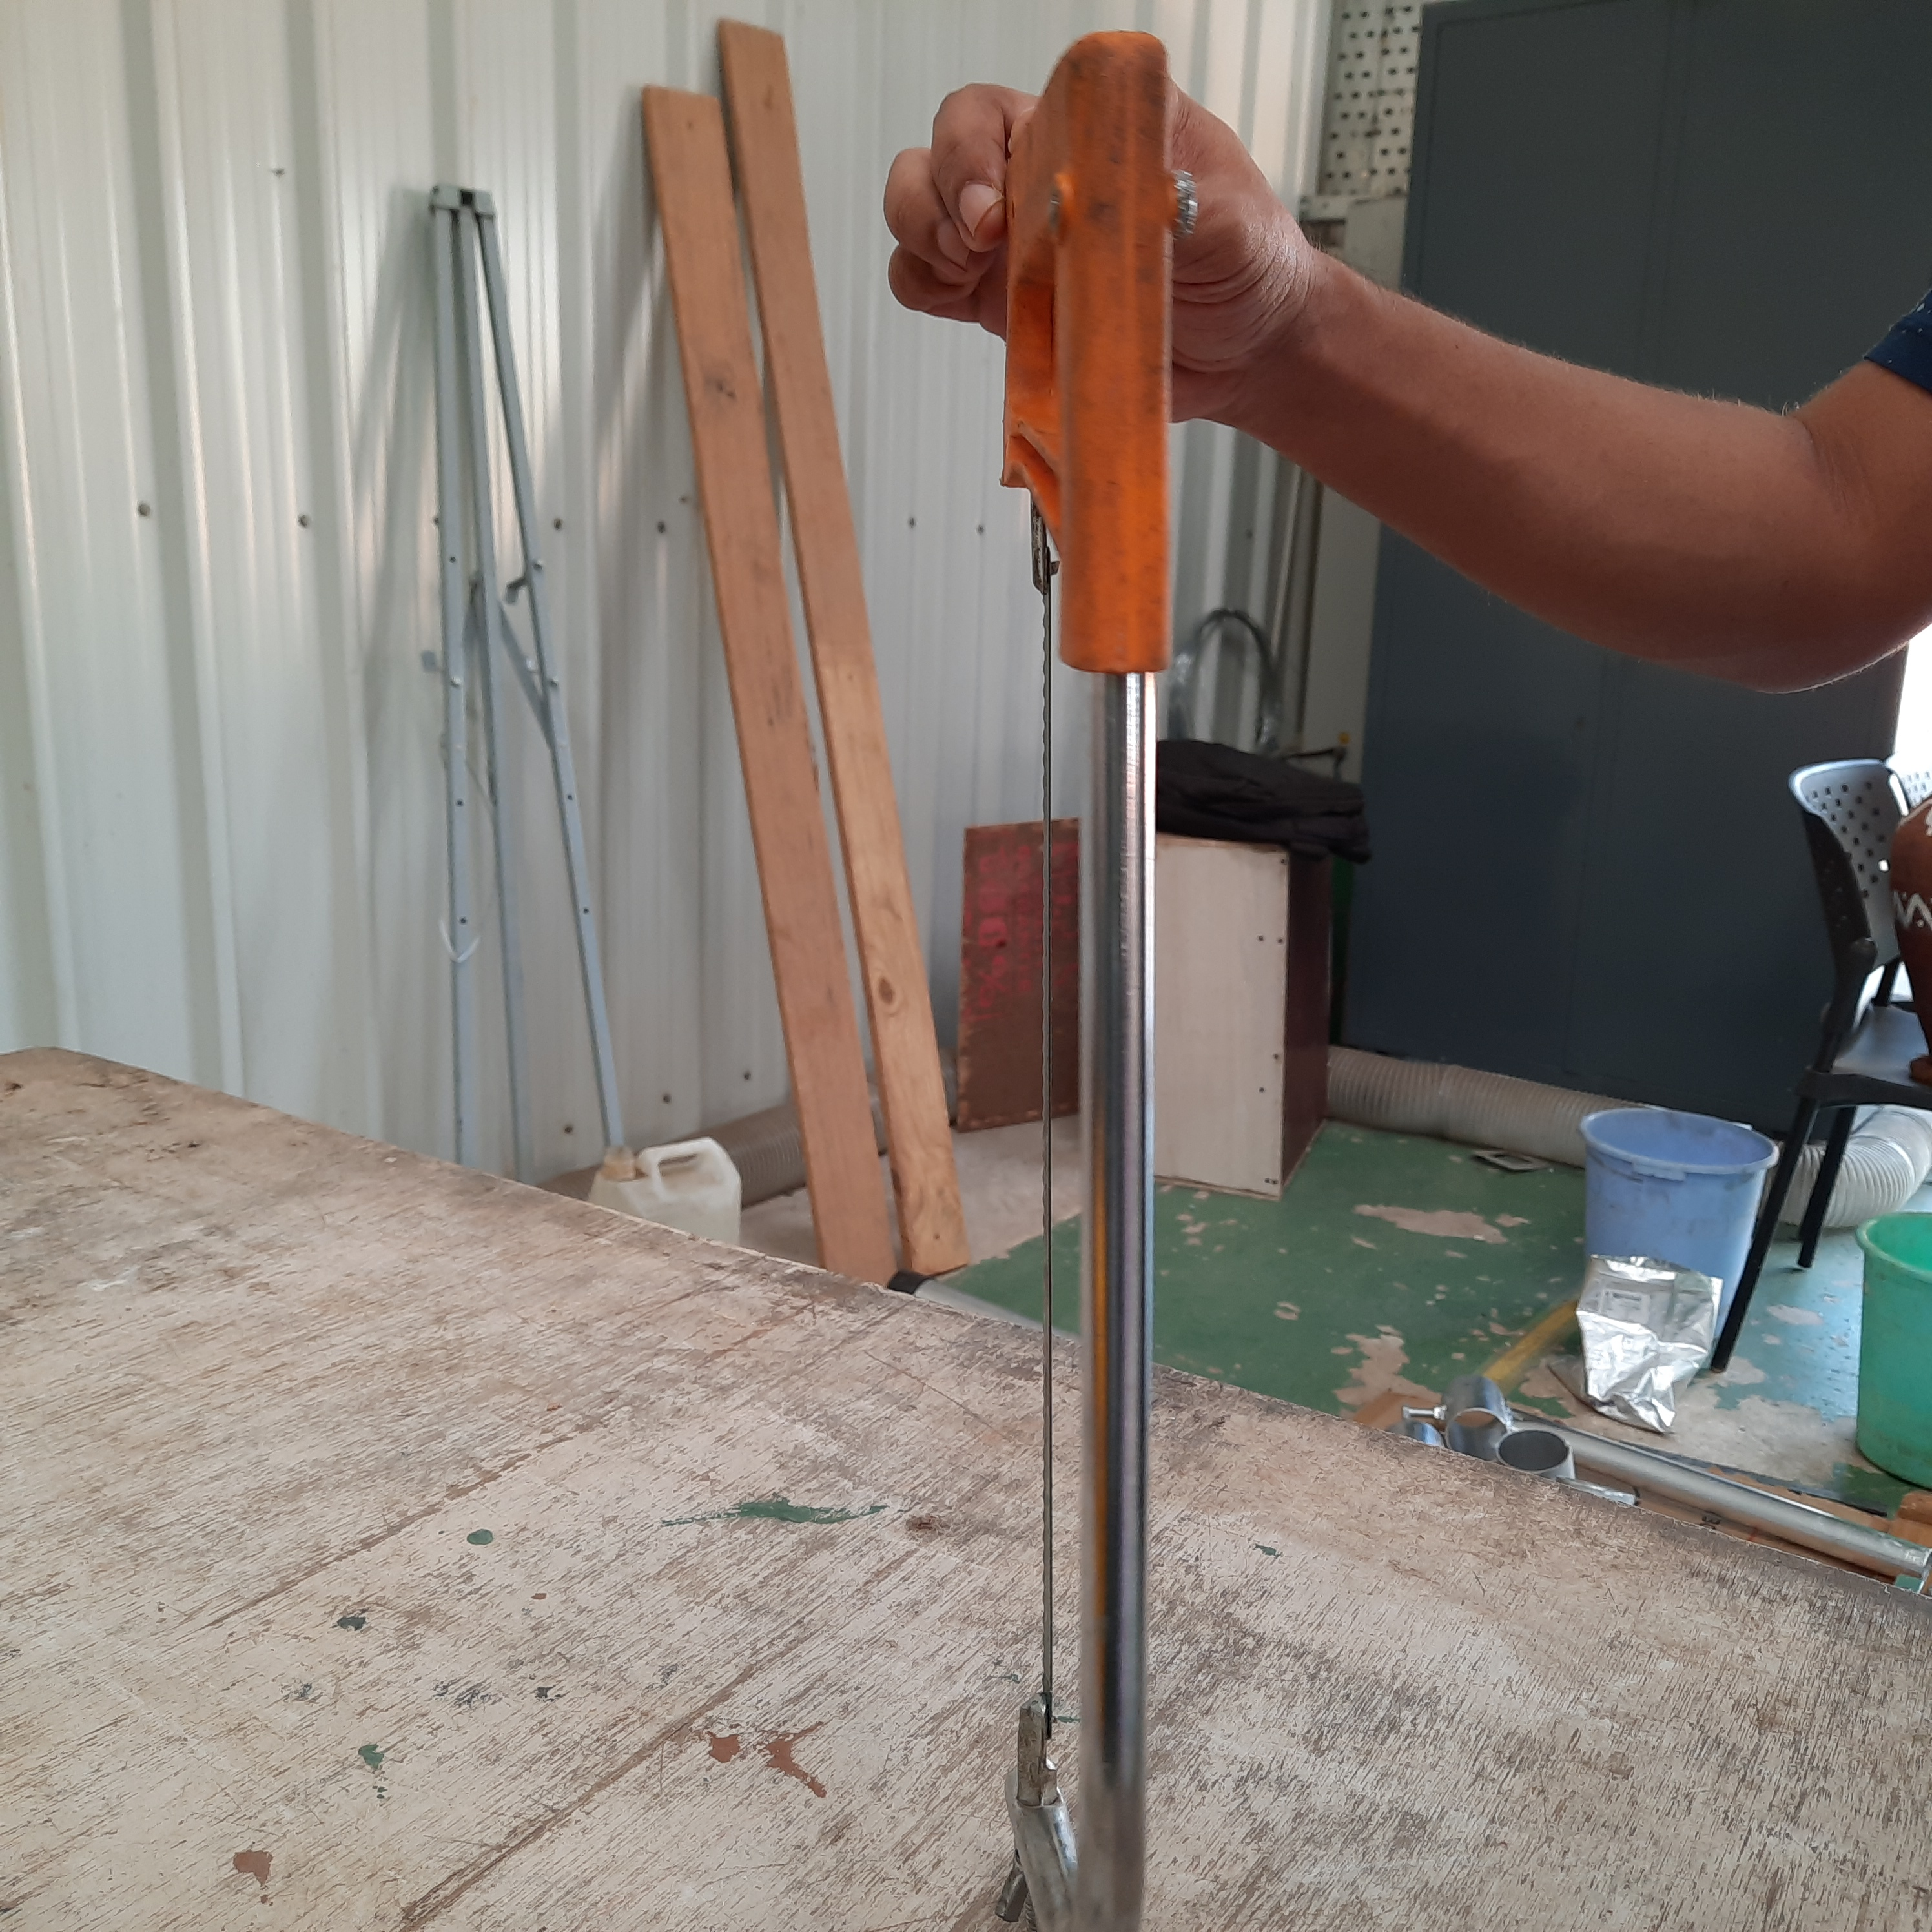Hexaframe: (985, 19, 1180, 1932)
